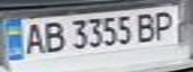3: (66, 17, 87, 51), (84, 16, 106, 48)
5: (115, 12, 136, 46), (100, 15, 121, 47)
A: (18, 20, 48, 56)
B: (39, 19, 69, 54), (133, 10, 160, 43)
P: (148, 9, 181, 42)
